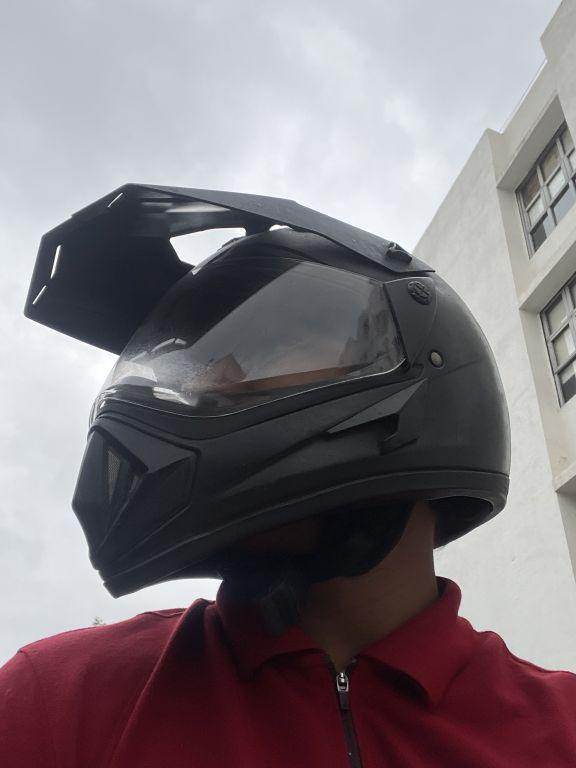helmet: (20, 160, 530, 611)
